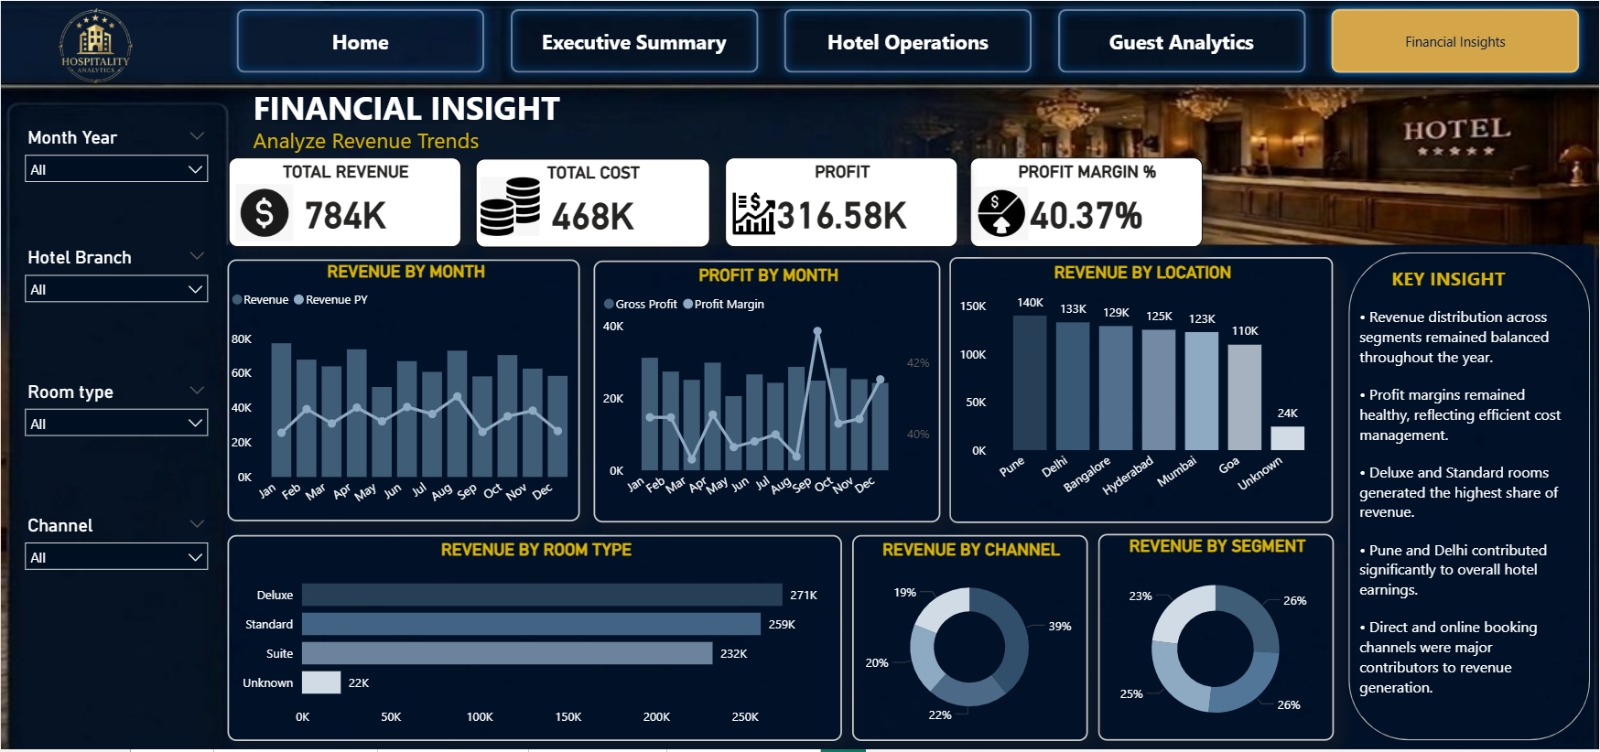

This screenshot's page, from the dashboard's own definition file:
{"tool":"powerbi","page":{"name":"Financial Insights","canvas":[1600,750],"ordinal":4},"visuals":[{"type":"image","box":[21.8,0,146.6,90.5],"z":0},{"type":"shape","box":[1340,242.4,259.7,506.7],"z":0,"group":"g1"},{"type":"textbox","box":[247,80.5,372.6,56.5],"z":1000},{"type":"textbox","box":[1404.4,348.2,8.7,35.3],"z":1000,"group":"g1"},{"type":"textbox","box":[247,118.6,345.8,45.2],"z":2000},{"type":"pageNavigator","box":[227.6,0,1361.7,80],"z":3000},{"type":"card","title":"TOTAL COST","fields":{"Values":["Sum(hospitality_final_dataset3.Operating cost)"]},"box":[475.7,158.1,234.3,88.9],"z":3000,"group":"g3"},{"type":"card","title":"TOTAL REVENUE","fields":{"Values":["Sum(hospitality_final_dataset3.Total revenue)"]},"box":[228.2,157.5,233.1,89.3],"z":4000,"group":"g2"},{"type":"group","id":"g1","title":"Group 6","box":[1340,242.4,259.7,506.7],"z":4000},{"type":"card","title":" PROFIT","fields":{"Values":["Sum(hospitality.Profit)"]},"box":[725.4,157.5,233.1,89.3],"z":5000,"group":"g5"},{"type":"columnChart","title":"REVENUE BY LOCATION","fields":{"Category":["hospitality_final_dataset3.Hotel Branch"],"Y":["Sum(hospitality_final_dataset3.Total revenue)"]},"box":[949.9,256.9,383.9,266.8],"z":5000},{"type":"clusteredBarChart","title":"REVENUE BY ROOM TYPE","fields":{"Y":["Sum(hospitality_final_dataset3.Total revenue)"],"Category":["hospitality_final_dataset3.Room type"]},"box":[227.2,534.9,615.4,206.1],"z":6000},{"type":"donutChart","title":"REVENUE BY SEGMENT ","fields":{"Category":["hospitality_final_dataset3.Purpose of visit"],"Y":["Sum(hospitality_final_dataset3.Total revenue)"]},"box":[1098.1,533.5,235.7,207.5],"z":7000},{"type":"lineClusteredColumnComboChart","title":"REVENUE BY MONTH","fields":{"Category":["hospitality_final_dataset3.Month"],"Y":["Measure.Revenue"],"Y2":["Measure.Revenue PY"]},"box":[227.2,258.3,352.9,262.5],"z":8000},{"type":"donutChart","title":"REVENUE BY CHANNEL ","fields":{"Y":["Sum(hospitality_final_dataset3.Total revenue)"],"Category":["hospitality_final_dataset3.Booking channel"]},"box":[852.5,534.9,235.7,206.1],"z":9000},{"type":"lineClusteredColumnComboChart","title":"PROFIT BY MONTH","fields":{"Y":["Measure.Gross Profit"],"Y2":["Measure.Profit Margin"],"Category":["hospitality_final_dataset3.Month"]},"box":[592.8,259.7,347.2,262.5],"z":10000},{"type":"group","id":"g2","title":"Group 1","box":[228.2,157.5,233.1,89.5],"z":11000},{"type":"group","id":"g3","title":"Group 3","box":[475.7,158.1,234.3,88.9],"z":12000},{"type":"group","id":"g4","title":"Group 4","box":[969.7,157.5,233.2,92.3],"z":13000},{"type":"slicer","fields":{"Values":["hospitality.Month Year"]},"box":[14.1,121.4,203.2,77.6],"z":14000},{"type":"card","title":" PROFIT MARGIN %","fields":{"Values":["Measure.Profit Margin"]},"box":[969.8,157.5,233.1,89.3],"z":14000,"group":"g4"},{"type":"image","box":[228.7,179.3,72,67.7],"z":14001,"group":"g2"},{"type":"image","box":[475.7,170.8,69.2,70.6],"z":14002,"group":"g3"},{"type":"image","box":[969.7,176.4,63.5,73.4],"z":14008,"group":"g4"},{"type":"slicer","fields":{"Values":["hospitality.Hotel Branch"]},"box":[14.1,241.4,203.2,77.6],"z":15000},{"type":"slicer","fields":{"Values":["hospitality.Room type"]},"box":[14.1,375.4,203.2,77.6],"z":16000},{"type":"slicer","fields":{"Values":["hospitality.Booking channel"]},"box":[14.1,509.5,203.2,77.6],"z":17000},{"type":"textbox","box":[1386.7,260.1,136.3,41.3],"z":18000},{"type":"textbox","box":[1355.4,301.3,225.1,447.6],"z":19000},{"type":"group","id":"g5","title":"Group 2","box":[724.8,157.5,233.8,98.6],"z":20000},{"type":"image","box":[724.8,168.7,70.3,87.5],"z":20001,"group":"g5"}]}

Visuals, with their boxes in screenshot pixels (x1, y1, x2, y2), scaled from the page's 1600x750 canvas onto the 1600x752 screenshot:
image: (left=22, top=0, right=168, bottom=91)
shape: (left=1340, top=243, right=1599, bottom=751)
textbox: (left=247, top=81, right=620, bottom=137)
textbox: (left=1404, top=349, right=1413, bottom=385)
textbox: (left=247, top=119, right=593, bottom=164)
pageNavigator: (left=228, top=0, right=1589, bottom=80)
"TOTAL COST" card: (left=476, top=159, right=710, bottom=248)
"TOTAL REVENUE" card: (left=228, top=158, right=461, bottom=247)
"Group 6" group: (left=1340, top=243, right=1599, bottom=751)
" PROFIT" card: (left=725, top=158, right=958, bottom=247)
"REVENUE BY LOCATION" columnChart: (left=950, top=258, right=1334, bottom=525)
"REVENUE BY ROOM TYPE" clusteredBarChart: (left=227, top=536, right=843, bottom=743)
"REVENUE BY SEGMENT " donutChart: (left=1098, top=535, right=1334, bottom=743)
"REVENUE BY MONTH" lineClusteredColumnComboChart: (left=227, top=259, right=580, bottom=522)
"REVENUE BY CHANNEL " donutChart: (left=852, top=536, right=1088, bottom=743)
"PROFIT BY MONTH" lineClusteredColumnComboChart: (left=593, top=260, right=940, bottom=524)
"Group 1" group: (left=228, top=158, right=461, bottom=248)
"Group 3" group: (left=476, top=159, right=710, bottom=248)
"Group 4" group: (left=970, top=158, right=1203, bottom=250)
slicer - hospitality.Month Year: (left=14, top=122, right=217, bottom=200)
" PROFIT MARGIN %" card: (left=970, top=158, right=1203, bottom=247)
image: (left=229, top=180, right=301, bottom=248)
image: (left=476, top=171, right=545, bottom=242)
image: (left=970, top=177, right=1033, bottom=250)
slicer - hospitality.Hotel Branch: (left=14, top=242, right=217, bottom=320)
slicer - hospitality.Room type: (left=14, top=376, right=217, bottom=454)
slicer - hospitality.Booking channel: (left=14, top=511, right=217, bottom=589)
textbox: (left=1387, top=261, right=1523, bottom=302)
textbox: (left=1355, top=302, right=1580, bottom=751)
"Group 2" group: (left=725, top=158, right=959, bottom=257)
image: (left=725, top=169, right=795, bottom=257)
